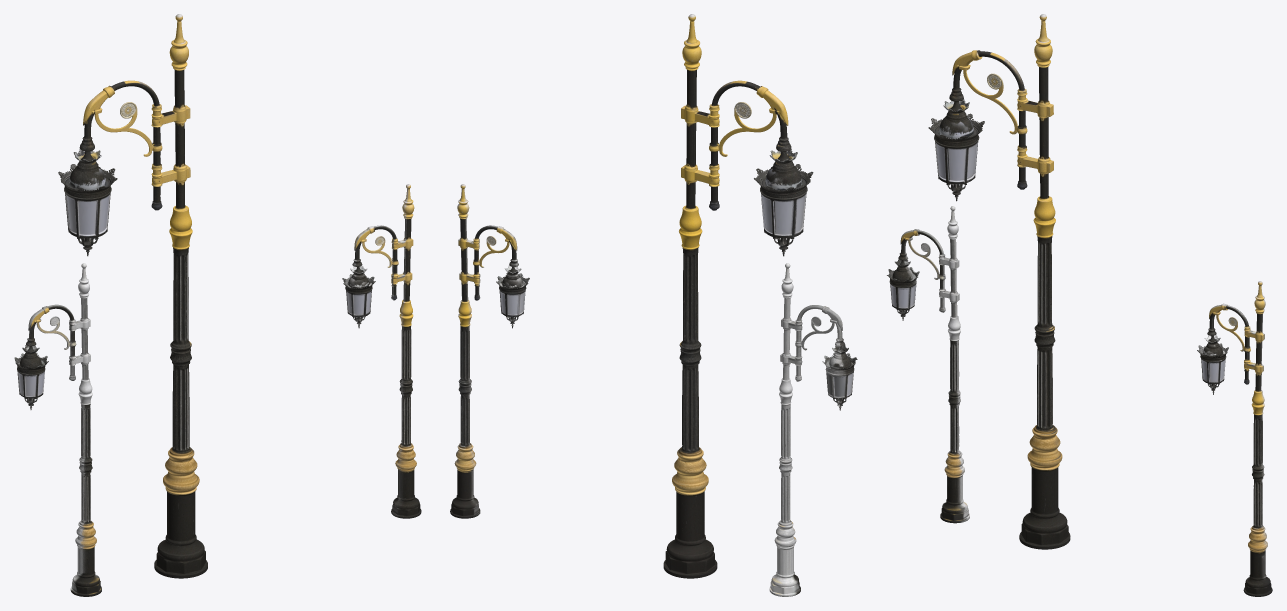
The model's file is 3_postes_DKB.glb.
3 views of the same model, side by side, from view 1: azimuth 30°, elevation 25°; view 2: azimuth 150°, elevation 25°; view 3: azimuth 330°, elevation 25° (orthographic). The views are drawn at different scales.
Bounding box in the file's own units: 1.45 × 1.9 × 0.1921.
Materials: 1 (1 with a texture image).
